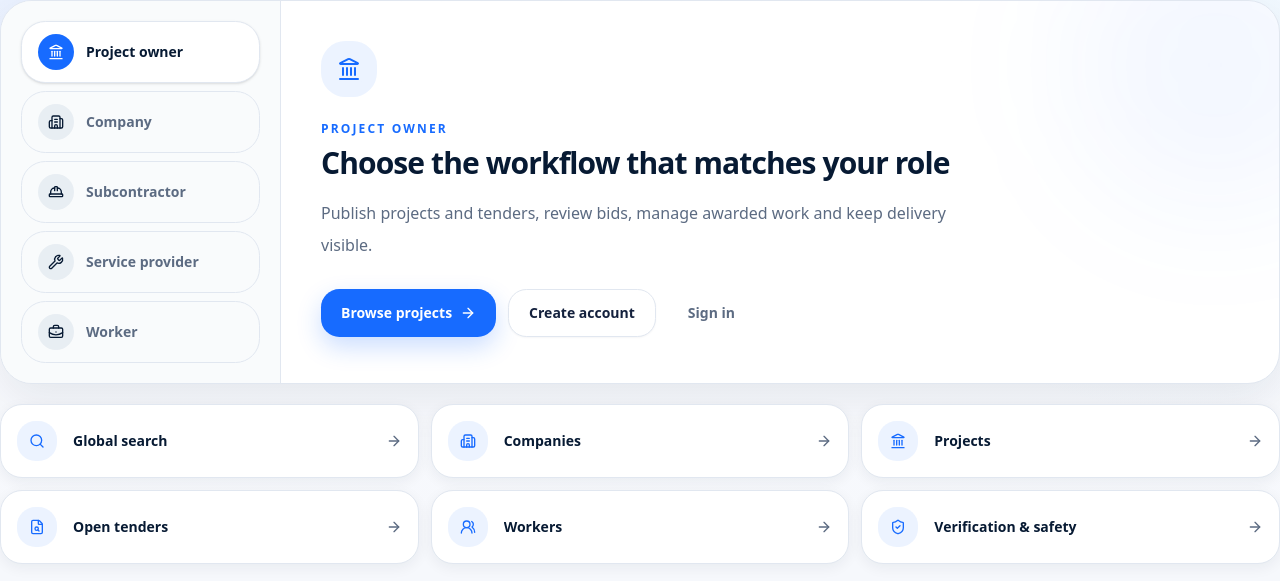
HowItWorksExplorer › switches the role-specific workflow and CTA without losing the shared journey
Expected: the text "Publish projects and tenders, review bids" is shown, [321,202,946,256]
Click the tab "Worker".
click(140, 332)  # box [21,301,260,363]
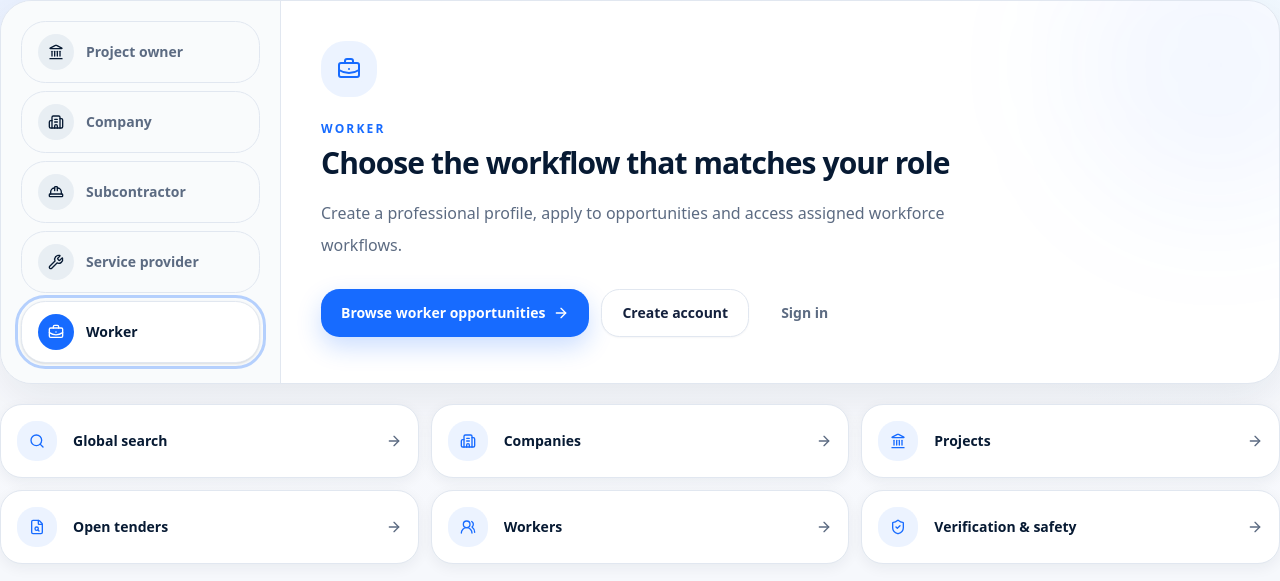
Expected: the text "Create a professional profile, apply to opportunities" is shown, [321,202,944,256]
